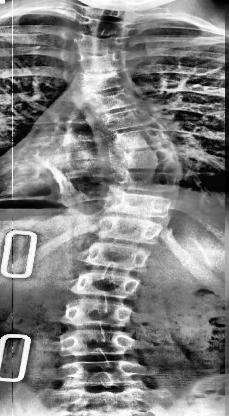Vertebrae: (56, 354, 148, 392), (57, 325, 139, 361), (70, 80, 144, 118), (79, 238, 155, 274), (88, 101, 160, 138), (95, 122, 175, 155), (104, 164, 180, 198), (60, 296, 136, 330), (92, 214, 172, 246), (98, 191, 180, 222), (62, 61, 134, 96), (70, 268, 146, 300), (100, 145, 184, 173), (60, 47, 134, 71), (67, 29, 128, 56)
